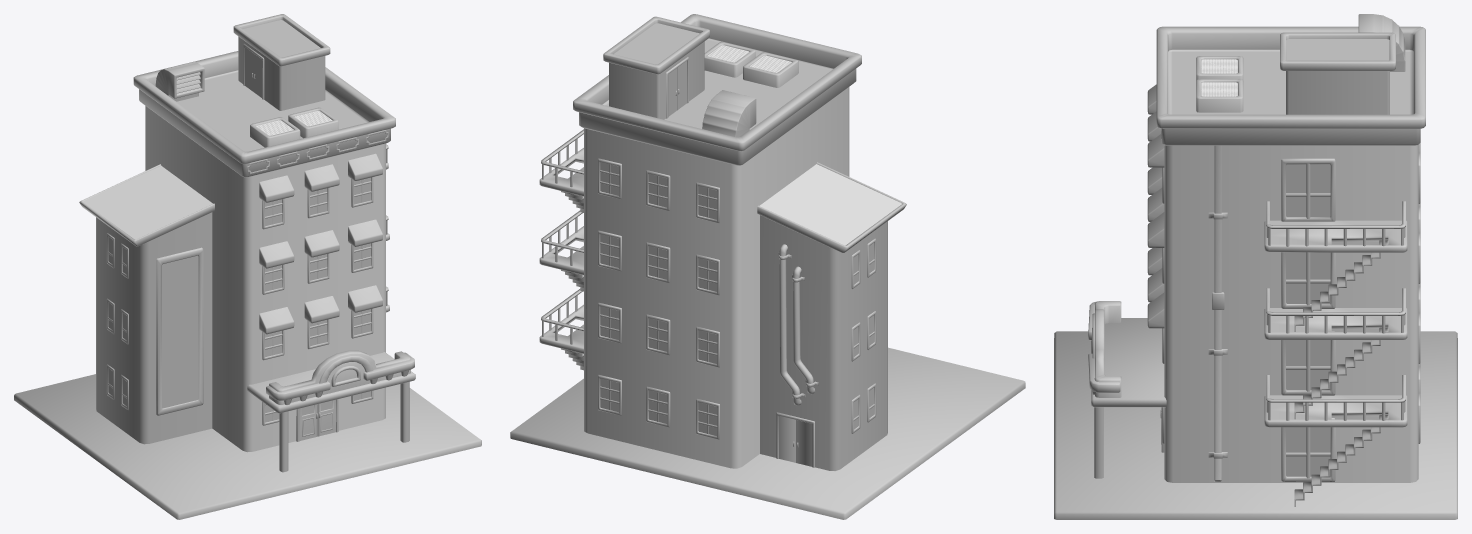
The model's file is hotel.fbx.
The picture shows the model from 3 angles, left to right: view 1: azimuth 30°, elevation 25°; view 2: azimuth 150°, elevation 25°; view 3: azimuth 270°, elevation 25°; orthographic projection. The views are drawn at different scales.
Visible parts, largest first — view 1: hotel, hotel_bricks, hotel_texture, hotel_roof, hotel_wire; view 2: hotel, hotel_bricks, hotel_roof, hotel_wire; view 3: hotel, hotel_bricks, hotel_wire.
Part boxes in pixels (left/top/right/bottom): hotel: left=14, top=14, right=481, bottom=519; hotel_bricks: left=145, top=106, right=385, bottom=452; hotel_texture: left=162, top=255, right=198, bottom=408; hotel_roof: left=84, top=166, right=212, bottom=239; hotel_wire: left=256, top=111, right=332, bottom=135; hotel: left=510, top=14, right=1025, bottom=519; hotel_bricks: left=584, top=87, right=849, bottom=468; hotel_roof: left=759, top=164, right=901, bottom=245; hotel_wire: left=707, top=45, right=791, bottom=72; hotel: left=1054, top=14, right=1457, bottom=519; hotel_bricks: left=1164, top=144, right=1418, bottom=482; hotel_wire: left=1201, top=59, right=1237, bottom=96.
Bounding box in the file's own units: 10.51 × 11.36 × 9.86.
